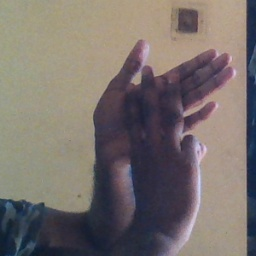M: (92, 34, 238, 209)
